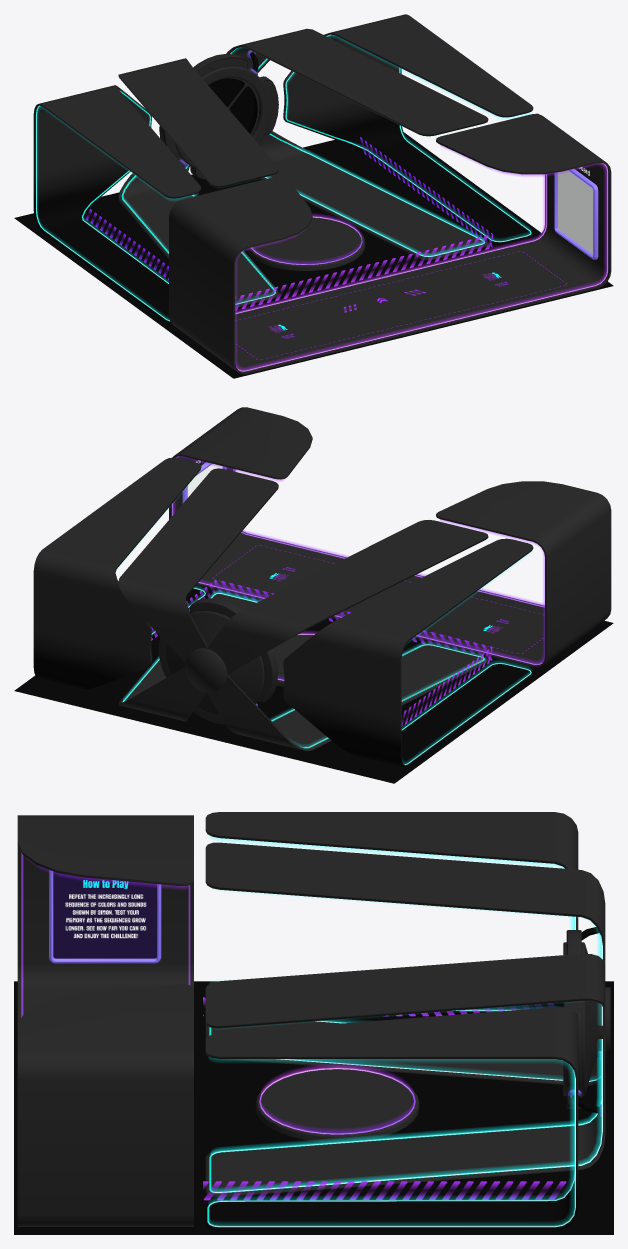
File: sceneBase.glb
3 views of the same model, one above another, from view 1: azimuth 30°, elevation 25°; view 2: azimuth 150°, elevation 25°; view 3: azimuth 270°, elevation 25° (orthographic). The views are drawn at different scales.
Parts seen in each view (by area): view 1: Cube.038, Plane.026, Floor.001, Plane.019, Plane.022, Plane.015, Cylinder.007, Cube.039, Cylinder.027, Plane.023, Cube.083, SquareFrame.001 (+4 smaller); view 2: Plane.026, Cube.038, Plane.015, Plane.019, Floor.001, Plane.023, Cylinder.007, Plane.022, Cube.039, Cube.083, Plane.035, Cylinder.027 (+1 smaller); view 3: Cube.038, Plane.026, Floor.001, Plane.015, Plane.019, Plane.022, Cylinder.027, Plane.007, Plane.035, Plane.023, Cube.083, Plane.036 (+5 smaller).
Boxes of the visible parts, left/top/right/bottom form: Cube.038: left=169, top=113, right=611, bottom=374; Plane.026: left=33, top=14, right=533, bottom=323; Floor.001: left=14, top=132, right=613, bottom=378; Plane.019: left=226, top=28, right=488, bottom=136; Plane.022: left=259, top=131, right=488, bottom=259; Plane.015: left=118, top=58, right=278, bottom=187; Cylinder.007: left=159, top=53, right=278, bottom=179; Cube.039: left=235, top=145, right=607, bottom=371; Cylinder.027: left=246, top=216, right=365, bottom=270; Plane.023: left=118, top=156, right=278, bottom=307; Cube.083: left=86, top=137, right=492, bottom=310; SquareFrame.001: left=554, top=169, right=598, bottom=259; Plane.026: left=33, top=457, right=533, bottom=767; Cube.038: left=169, top=407, right=611, bottom=667; Plane.015: left=207, top=520, right=488, bottom=674; Plane.019: left=118, top=468, right=278, bottom=662; Floor.001: left=14, top=585, right=613, bottom=783; Plane.023: left=207, top=643, right=488, bottom=750; Cylinder.007: left=158, top=598, right=278, bottom=724; Plane.022: left=118, top=592, right=258, bottom=721; Cube.039: left=172, top=456, right=544, bottom=664; Cube.083: left=151, top=579, right=492, bottom=726; Plane.035: left=152, top=552, right=531, bottom=764; Cylinder.027: left=273, top=634, right=314, bottom=686; Cube.038: left=17, top=815, right=193, bottom=1226; Plane.026: left=205, top=812, right=578, bottom=1230; Floor.001: left=14, top=981, right=613, bottom=1234; Plane.015: left=205, top=842, right=605, bottom=964; Plane.019: left=205, top=953, right=605, bottom=1032; Plane.022: left=205, top=1034, right=605, bottom=1197; Cylinder.027: left=255, top=1068, right=419, bottom=1142; Plane.007: left=53, top=871, right=156, bottom=958; Plane.035: left=208, top=835, right=575, bottom=1226; Plane.023: left=205, top=1020, right=600, bottom=1085; Cube.083: left=203, top=997, right=566, bottom=1200; Plane.036: left=210, top=1039, right=602, bottom=1192.
Size of what is drawn, in the model's own units: 16 by 5.4 by 16.
Materials: 7 (7 with a texture image).
